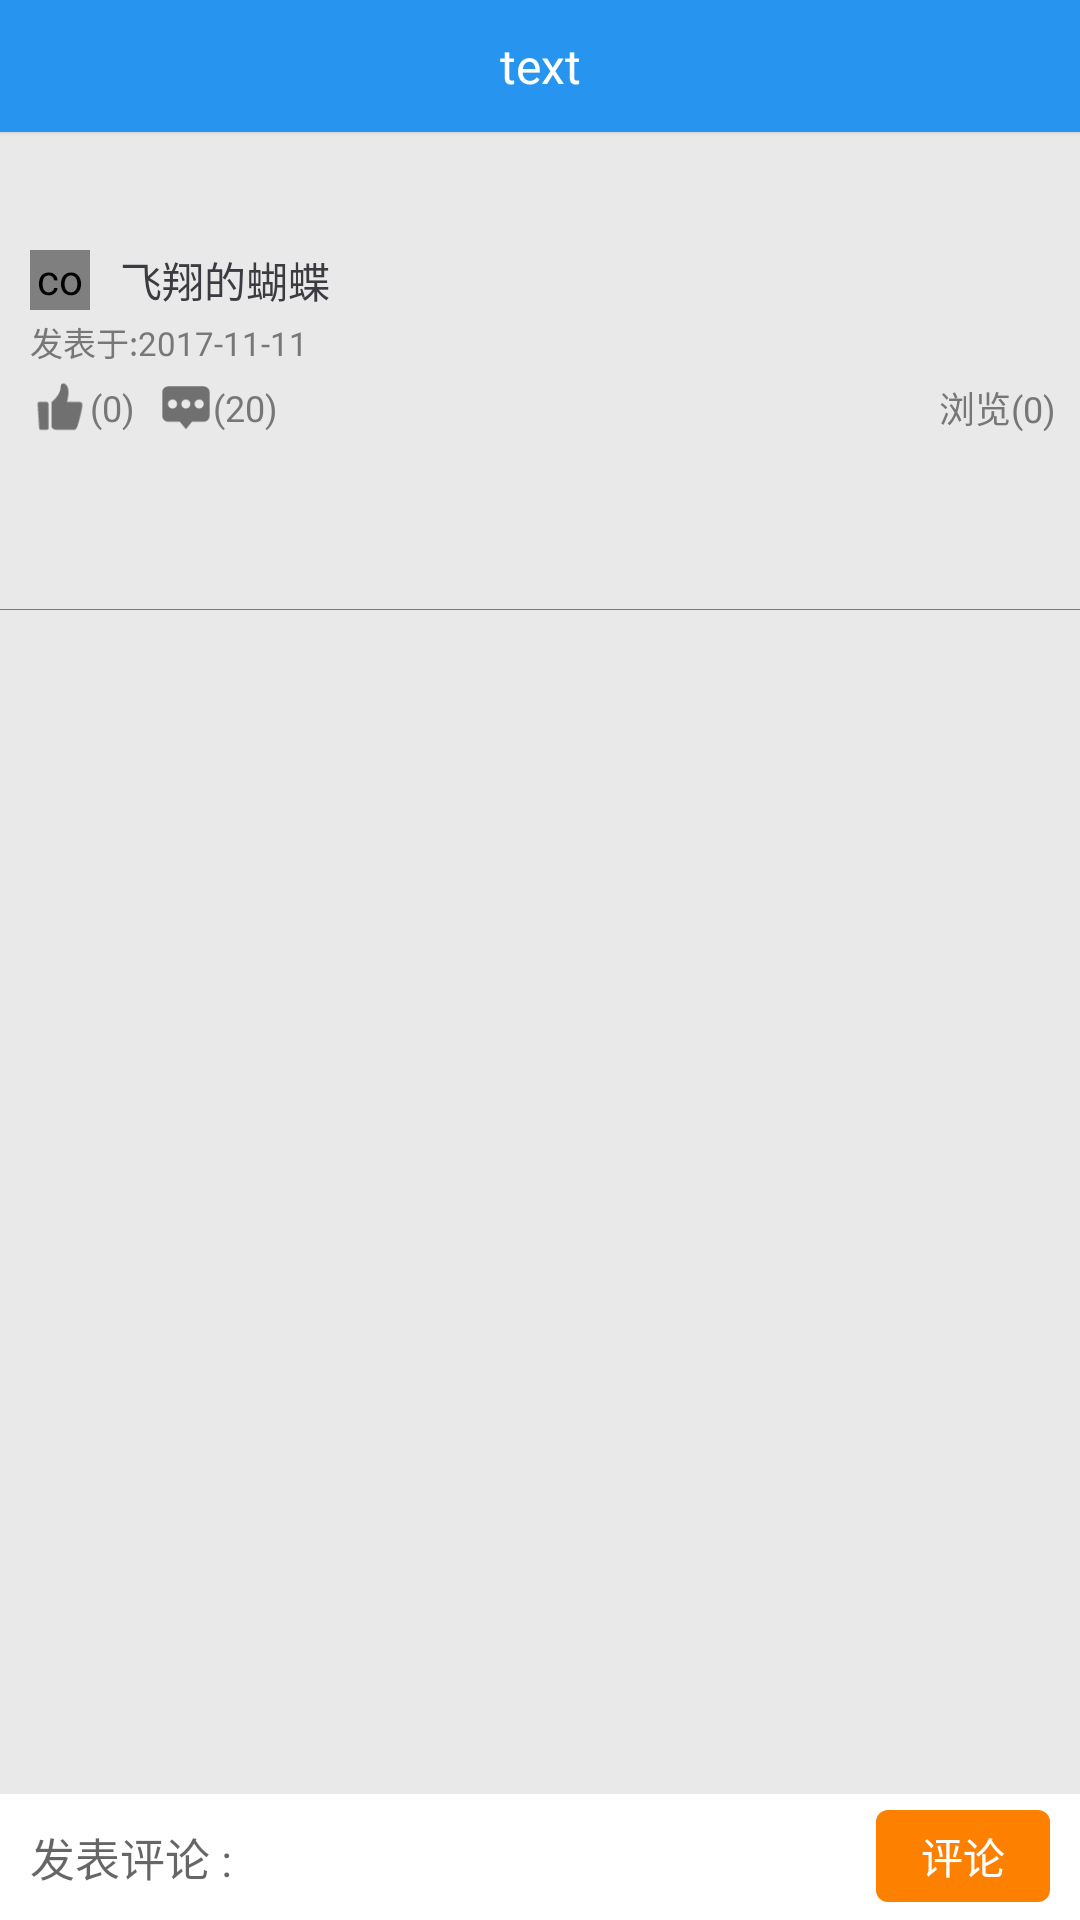

Icons on this 1080 × 1920 Android screen, each with the point to tap as [x,y]:
like: [60,406]
